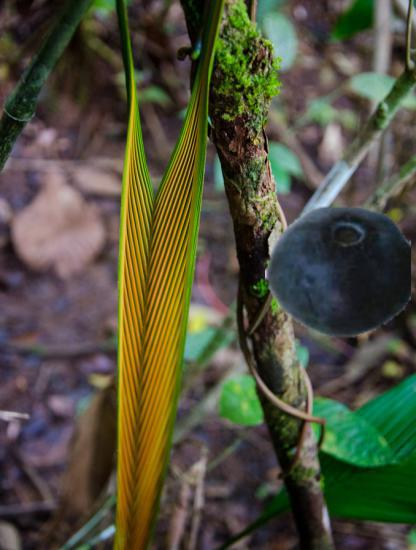Blueberry: (265, 199, 411, 345)
